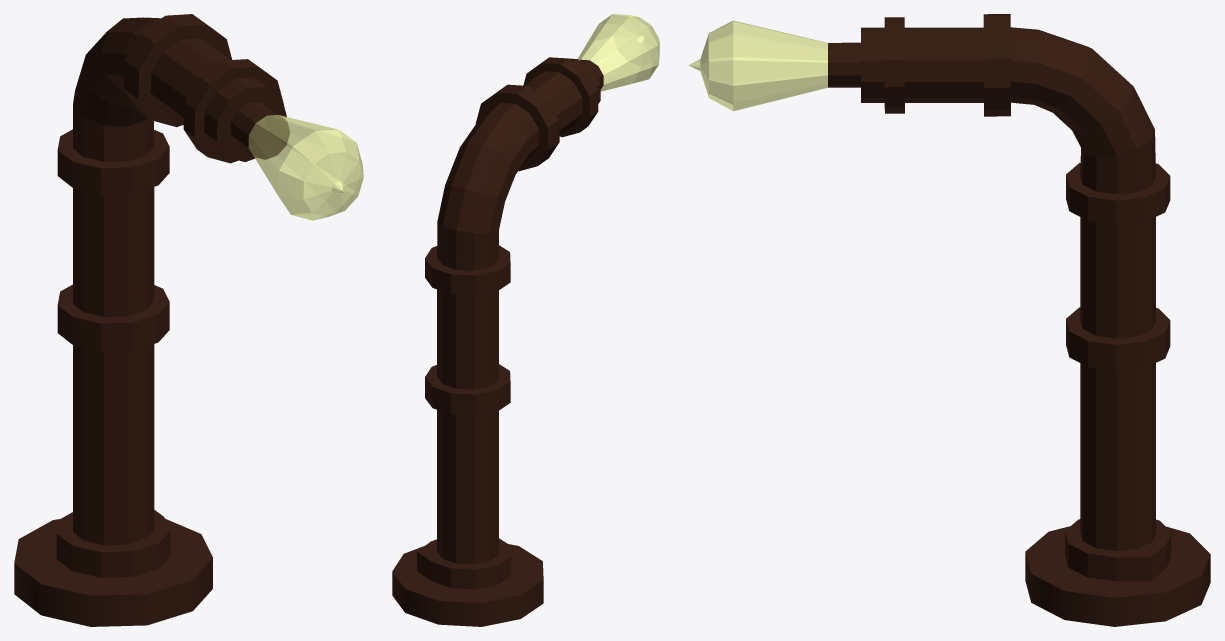
Rendered from Modé_Lampe_Bureau.FBX.
The picture shows the model from 3 angles, left to right: view 1: azimuth 30°, elevation 25°; view 2: azimuth 150°, elevation 25°; view 3: azimuth 270°, elevation 25°; orthographic projection. The views are drawn at different scales.
Visible parts, largest first — view 1: Cylinder001; view 2: Cylinder001; view 3: Cylinder001.
Boxes of the visible parts, <box> form: Cylinder001: <box>14,14,363,626</box>; Cylinder001: <box>392,14,659,626</box>; Cylinder001: <box>688,14,1210,626</box>.
Bounding box in the file's own units: 7.42 × 25.36 × 21.05.
